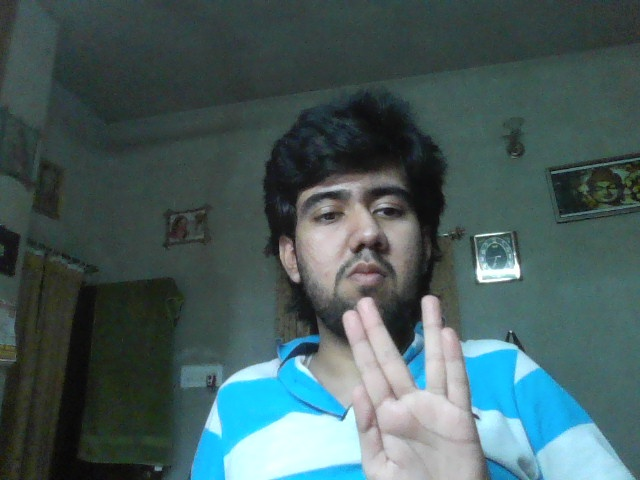LiveLong: (341, 294, 486, 480)
